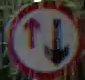Two way: (4, 4, 82, 74)
